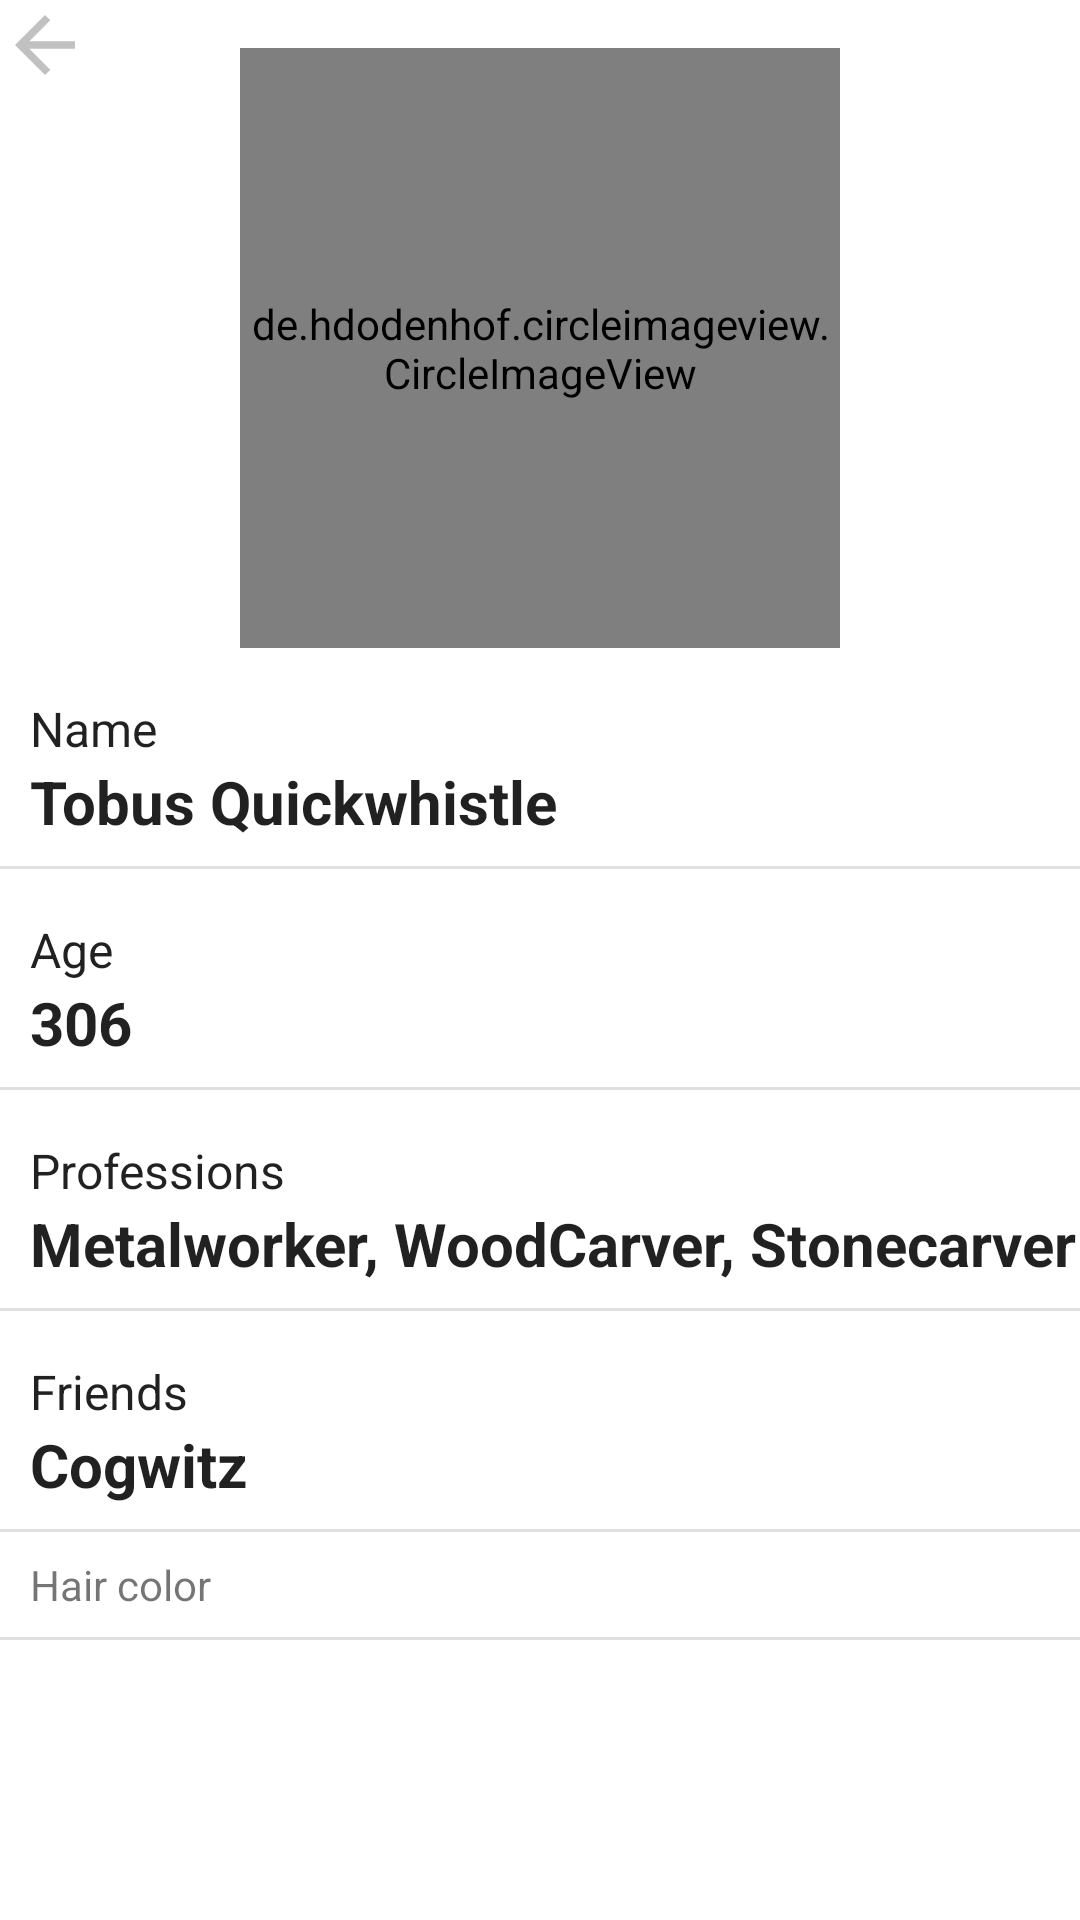

Icon bounding boxes for this 1080 x 1920 phone screenshot, format (x1, y1, x2, y2):
arrow back: (15, 15, 75, 75)
